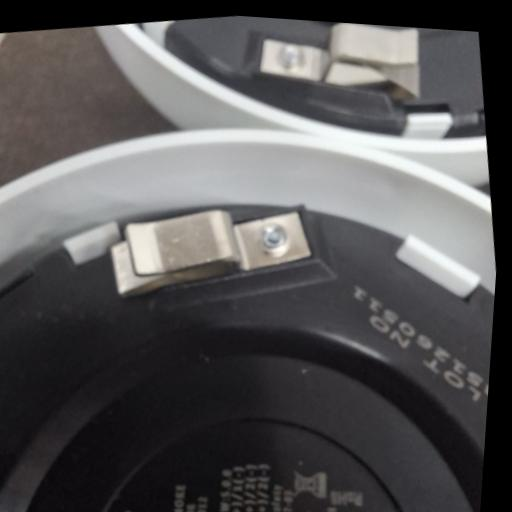yayli: (98, 186, 323, 312), (254, 17, 429, 119)
